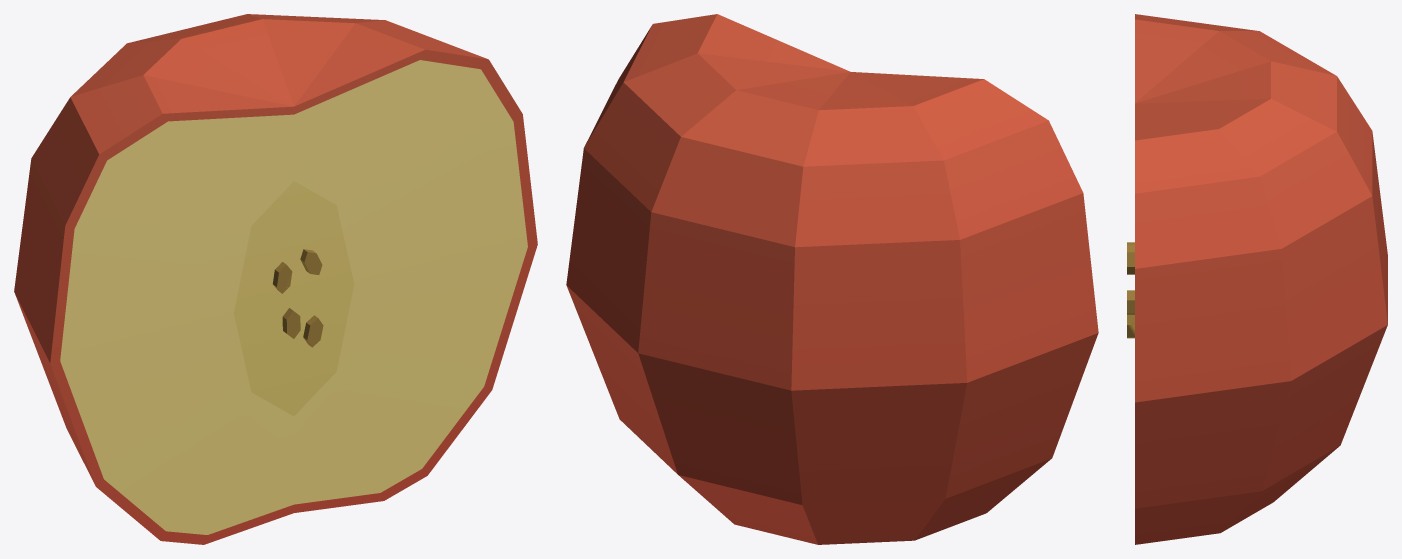
The model's file is apple_1b.fbx.
3 renders of one model, left to right at view 1: azimuth 30°, elevation 25°; view 2: azimuth 150°, elevation 25°; view 3: azimuth 270°, elevation 25°, orthographic. The views are drawn at different scales.
Visible parts, largest first — view 1: apple_1b; view 2: apple_1b; view 3: apple_1b.
Boxes of the visible parts, box(x1,y1,x2,y2) form: apple_1b: box(14, 14, 537, 544); apple_1b: box(566, 14, 1098, 544); apple_1b: box(1127, 14, 1387, 544).
Bounding box in the file's own units: 0.1169 × 0.1011 × 0.0573.
